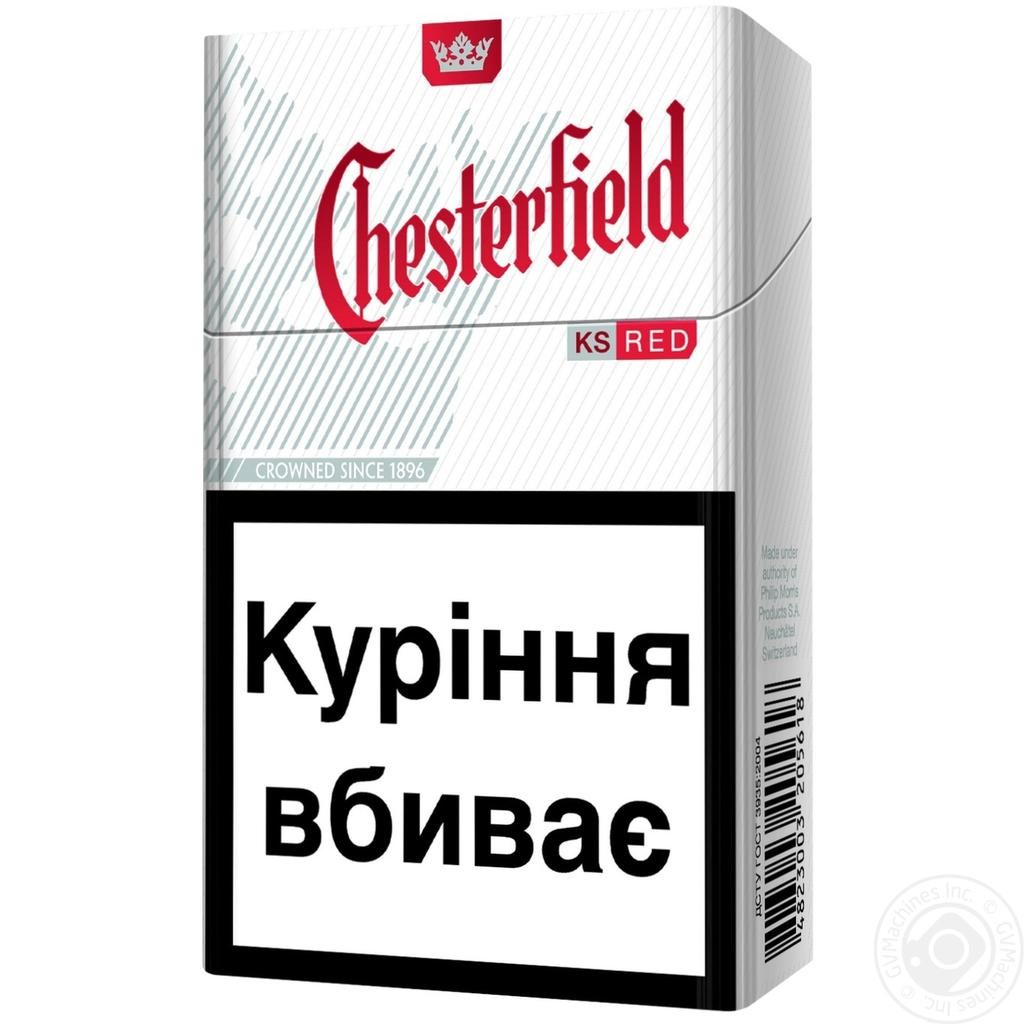chesterfield_red: (207, 5, 739, 982)
